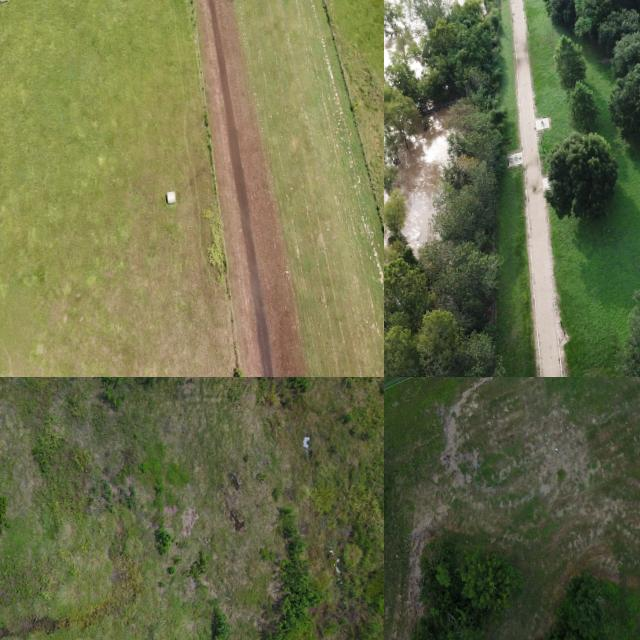fire: (397, 115, 445, 249)
